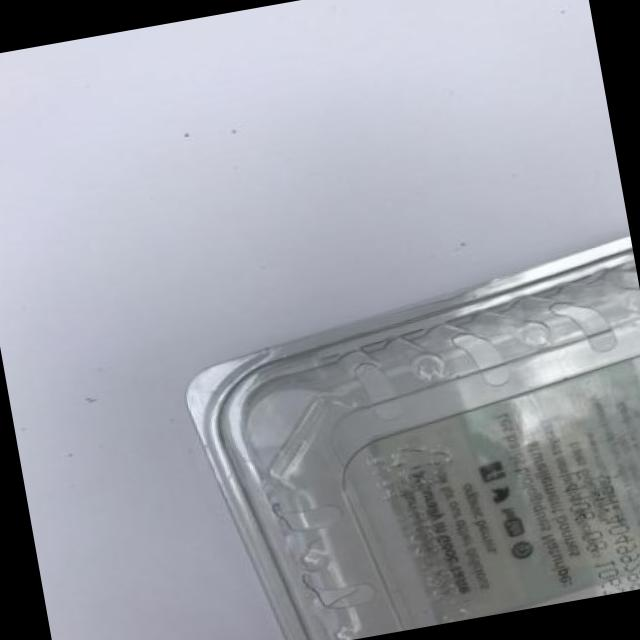Clamshell: (128, 220, 640, 640)
Label: (343, 355, 640, 633)
